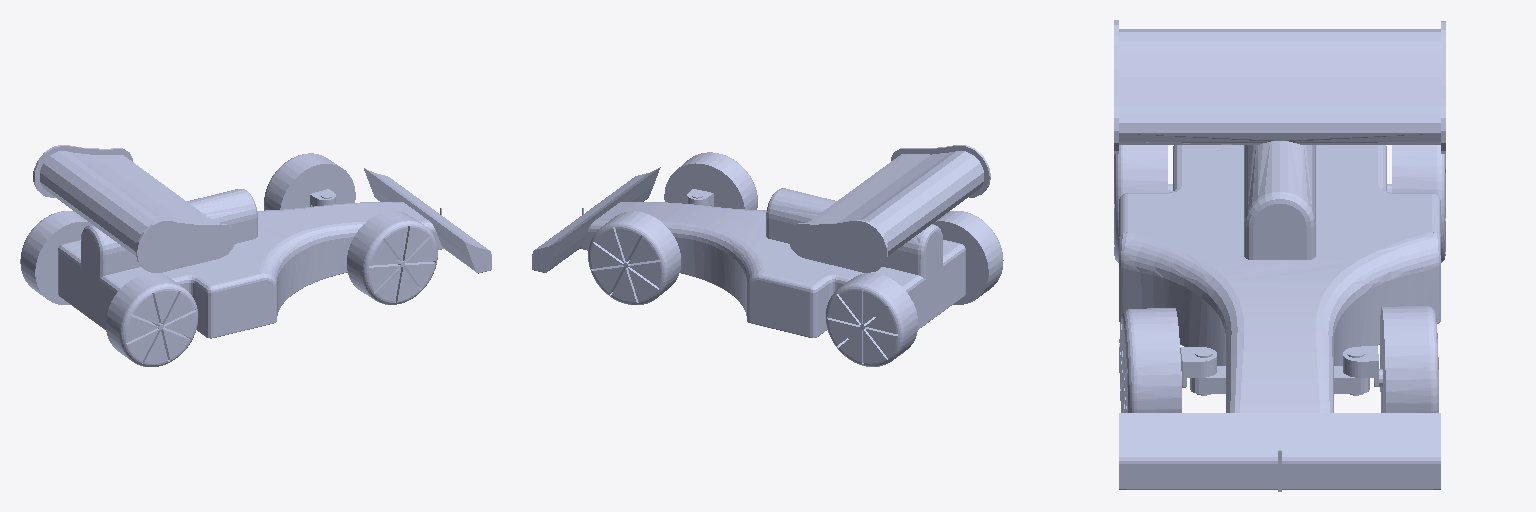
The robot description file, URDF, robot "updated_assembly":
<?xml version="1.0" encoding="utf-8"?>
<!-- This URDF was automatically created by SolidWorks to URDF Exporter! Originally created by [author] ([email redacted]) 
     Commit Version: 1.6.0-4-g7f85cfe  Build Version: 1.6.7995.38578
     For more information, please see http://wiki.ros.org/sw_urdf_exporter -->
<robot
  name="updated_assembly">
  <link
    name="chassis">
    <inertial>
      <origin
        xyz="-0.616773657514888 -4.34853353439648E-08 0.146342231101862"
        rpy="0 0 0" />
      <mass
        value="41.5853551802886" />
      <inertia
        ixx="0.779362029443521"
        ixy="5.13040313927605E-06"
        ixz="0.395543854550346"
        iyy="2.49517805123046"
        iyz="-2.04865621142101E-06"
        izz="2.66085738422244" />
    </inertial>
    <visual>
      <origin
        xyz="0 0 0"
        rpy="0 0 0" />
      <geometry>
        <mesh
          filename="package://updated_assembly/meshes/chassis.STL" />
      </geometry>
      <material
        name="">
        <color
          rgba="0.792156862745098 0.819607843137255 0.933333333333333 1" />
      </material>
    </visual>
    <collision>
      <origin
        xyz="0 0 0"
        rpy="0 0 0" />
      <geometry>
        <mesh
          filename="package://updated_assembly/meshes/chassis.STL" />
      </geometry>
    </collision>
  </link>
  <link
    name="right_stubble">
    <inertial>
      <origin
        xyz="0.000493625868364517 -0.00730515849096751 -0.0219698232437771"
        rpy="0 0 0" />
      <mass
        value="0.0794074667477977" />
      <inertia
        ixx="3.1138971614894E-05"
        ixy="7.32024407649854E-08"
        ixz="-1.75460715547232E-07"
        iyy="3.00605967383084E-05"
        iyz="2.59663931361191E-06"
        izz="2.66046329228299E-05" />
    </inertial>
    <visual>
      <origin
        xyz="0 0 0"
        rpy="0 0 0" />
      <geometry>
        <mesh
          filename="package://updated_assembly/meshes/right_stubble.STL" />
      </geometry>
      <material
        name="">
        <color
          rgba="0.792156862745098 0.819607843137255 0.933333333333333 1" />
      </material>
    </visual>
    <collision>
      <origin
        xyz="0 0 0"
        rpy="0 0 0" />
      <geometry>
        <mesh
          filename="package://updated_assembly/meshes/right_stubble.STL" />
      </geometry>
    </collision>
  </link>
  <joint
    name="right_stubbleJ"
    type="revolute">
    <origin
      xyz="-0.23495 -0.10795 0.14478"
      rpy="0 0 0" />
    <parent
      link="chassis" />
    <child
      link="right_stubble" />
    <axis
      xyz="0 0 -1" />
    <limit
      lower="-0.34907"
      upper="0.34907"
      effort="0"
      velocity="0" />
  </joint>
  <link
    name="front_right_wheel">
    <inertial>
      <origin
        xyz="-6.63358257213531E-15 4.37150315946155E-15 0.0395540914856702"
        rpy="0 0 0" />
      <mass
        value="2.27734930086204" />
      <inertia
        ixx="0.00710492920653124"
        ixy="1.58753565960078E-15"
        ixz="-1.75678699018689E-15"
        iyy="0.00710492920653248"
        iyz="1.21772395875685E-15"
        izz="0.0119904910382331" />
    </inertial>
    <visual>
      <origin
        xyz="0 0 0"
        rpy="0 0 0" />
      <geometry>
        <mesh
          filename="package://updated_assembly/meshes/front_right_wheel.STL" />
      </geometry>
      <material
        name="">
        <color
          rgba="0.792156862745098 0.819607843137255 0.933333333333333 1" />
      </material>
    </visual>
    <collision>
      <origin
        xyz="0 0 0"
        rpy="0 0 0" />
      <geometry>
        <mesh
          filename="package://updated_assembly/meshes/front_right_wheel.STL" />
      </geometry>
    </collision>
  </link>
  <joint
    name="front_right_wheelJ"
    type="continuous">
    <origin
      xyz="0.0077059 -0.11404 -0.04064"
      rpy="1.5708 0 -3.0741" />
    <parent
      link="right_stubble" />
    <child
      link="front_right_wheel" />
    <axis
      xyz="0 0 1" />
  </joint>
  <link
    name="left_stubble">
    <inertial>
      <origin
        xyz="0 0.00732181719766843 -0.0219698232437771"
        rpy="0 0 0" />
      <mass
        value="0.0794074667477977" />
      <inertia
        ixx="3.11439180672446E-05"
        ixy="-5.39983503874616E-21"
        ixz="-5.02925812432241E-21"
        iyy="3.00556502859579E-05"
        iyz="-2.60256069817695E-06"
        izz="2.66046329228299E-05" />
    </inertial>
    <visual>
      <origin
        xyz="0 0 0"
        rpy="0 0 0" />
      <geometry>
        <mesh
          filename="package://updated_assembly/meshes/left_stubble.STL" />
      </geometry>
      <material
        name="">
        <color
          rgba="0.792156862745098 0.819607843137255 0.933333333333333 1" />
      </material>
    </visual>
    <collision>
      <origin
        xyz="0 0 0"
        rpy="0 0 0" />
      <geometry>
        <mesh
          filename="package://updated_assembly/meshes/left_stubble.STL" />
      </geometry>
    </collision>
  </link>
  <joint
    name="left_stubbleJ"
    type="revolute">
    <origin
      xyz="-0.23495 0.10795 0.14478"
      rpy="0 0 0.042278" />
    <parent
      link="chassis" />
    <child
      link="left_stubble" />
    <axis
      xyz="0 0 -1" />
    <limit
      lower="-0.34907"
      upper="0.34907"
      effort="0"
      velocity="0" />
  </joint>
  <link
    name="front_left_wheel">
    <inertial>
      <origin
        xyz="-7.7715611723761E-15 2.67841304690819E-15 0.0395540914856701"
        rpy="0 0 0" />
      <mass
        value="2.27734930086202" />
      <inertia
        ixx="0.00710492920653056"
        ixy="1.08618435030828E-15"
        ixz="-2.06247779271918E-15"
        iyy="0.00710492920653318"
        iyz="7.53683956364923E-16"
        izz="0.0119904910382328" />
    </inertial>
    <visual>
      <origin
        xyz="0 0 0"
        rpy="0 0 0" />
      <geometry>
        <mesh
          filename="package://updated_assembly/meshes/front_left_wheel.STL" />
      </geometry>
      <material
        name="">
        <color
          rgba="0.792156862745098 0.819607843137255 0.933333333333333 1" />
      </material>
    </visual>
    <collision>
      <origin
        xyz="0 0 0"
        rpy="0 0 0" />
      <geometry>
        <mesh
          filename="package://updated_assembly/meshes/front_left_wheel.STL" />
      </geometry>
    </collision>
  </link>
  <joint
    name="front_left_wheelJ"
    type="continuous">
    <origin
      xyz="0 0.1143 -0.04064"
      rpy="1.5708 0 0" />
    <parent
      link="left_stubble" />
    <child
      link="front_left_wheel" />
    <axis
      xyz="0 0 1" />
  </joint>
  <link
    name="rear_right_wheel">
    <inertial>
      <origin
        xyz="4.32986979603811E-15 -6.98052726733067E-15 0.0395540914856703"
        rpy="0 0 0" />
      <mass
        value="2.27734930086199" />
      <inertia
        ixx="0.00710492920653265"
        ixy="1.50573010392001E-15"
        ixz="1.13646128196408E-15"
        iyy="0.00710492920653107"
        iyz="-1.89862675756808E-15"
        izz="0.0119904910382325" />
    </inertial>
    <visual>
      <origin
        xyz="0 0 0"
        rpy="0 0 0" />
      <geometry>
        <mesh
          filename="package://updated_assembly/meshes/rear_right_wheel.STL" />
      </geometry>
      <material
        name="">
        <color
          rgba="0.792156862745098 0.819607843137255 0.933333333333333 1" />
      </material>
    </visual>
    <collision>
      <origin
        xyz="0 0 0"
        rpy="0 0 0" />
      <geometry>
        <mesh
          filename="package://updated_assembly/meshes/rear_right_wheel.STL" />
      </geometry>
    </collision>
  </link>
  <joint
    name="rear_right_wheelJ"
    type="continuous">
    <origin
      xyz="-0.8636 -0.23495 0.1016"
      rpy="1.5708 0 3.1416" />
    <parent
      link="chassis" />
    <child
      link="rear_right_wheel" />
    <axis
      xyz="0 0 1" />
  </joint>
  <link
    name="rear_left_wheel">
    <inertial>
      <origin
        xyz="-1.11022302462516E-16 8.22952817003397E-15 0.0395540914856703"
        rpy="0 0 0" />
      <mass
        value="2.27734930086199" />
      <inertia
        ixx="0.00710492920653356"
        ixy="-3.832285813084E-17"
        ixz="3.23743942117421E-17"
        iyy="0.00710492920653015"
        iyz="2.21267793842341E-15"
        izz="0.0119904910382325" />
    </inertial>
    <visual>
      <origin
        xyz="0 0 0"
        rpy="0 0 0" />
      <geometry>
        <mesh
          filename="package://updated_assembly/meshes/rear_left_wheel.STL" />
      </geometry>
      <material
        name="">
        <color
          rgba="0.792156862745098 0.819607843137255 0.933333333333333 1" />
      </material>
    </visual>
    <collision>
      <origin
        xyz="0 0 0"
        rpy="0 0 0" />
      <geometry>
        <mesh
          filename="package://updated_assembly/meshes/rear_left_wheel.STL" />
      </geometry>
    </collision>
  </link>
  <joint
    name="rear_left_wheelJ"
    type="continuous">
    <origin
      xyz="-0.8636 0.23495 0.1016"
      rpy="1.5708 0 0" />
    <parent
      link="chassis" />
    <child
      link="rear_left_wheel" />
    <axis
      xyz="0 0 -1" />
  </joint>   
  <link
  	name="dummy_link">
  </link>
  <joint
  	name="dummy_joint"
  	type="fixed">
  	<parent 
  		link="dummy_link"/>
  	<child
  		link="chassis"/>
  </joint>
<transmission name="trans_right_stubble">
    <type>transmission_interface/SimpleTransmission</type>
    <joint name="right_stubbleJ">
      <hardwareInterface>hardware_interface/EffortJointInterface</hardwareInterface>
    </joint>
    <actuator name="right_stubbleJ_motor">
      <mechanicalReduction>1</mechanicalReduction>
      <hardwareInterface>hardware_interface/EffortJointInterface</hardwareInterface>
    </actuator>
  </transmission>
  <transmission name="trans_left_stubble">
    <type>transmission_interface/SimpleTransmission</type>
    <joint name="left_stubbleJ">
      <hardwareInterface>hardware_interface/EffortJointInterface</hardwareInterface>
    </joint>
    <actuator name="left_stubbleJ_motor">
      <mechanicalReduction>1</mechanicalReduction>
      <hardwareInterface>hardware_interface/EffortJointInterface</hardwareInterface>
    </actuator>
  </transmission>
  <transmission name="trans_front_left_wheel">
    <type>transmission_interface/SimpleTransmission</type>
    <joint name="front_left_wheelJ">
      <hardwareInterface>hardware_interface/EffortJointInterface</hardwareInterface>
    </joint>
    <actuator name="front_left_wheel_motor">
      <mechanicalReduction>1</mechanicalReduction>
      <hardwareInterface>hardware_interface/EffortJointInterface</hardwareInterface>
    </actuator>
  </transmission>
  <transmission name="trans_front_right_wheel">
    <type>transmission_interface/SimpleTransmission</type>
    <joint name="front_right_wheelJ">
      <hardwareInterface>hardware_interface/EffortJointInterface</hardwareInterface>
    </joint>
    <actuator name="front_right_wheel_motor">
      <mechanicalReduction>1</mechanicalReduction>
      <hardwareInterface>hardware_interface/EffortJointInterface</hardwareInterface>
    </actuator>
  </transmission>
  <transmission name="trans_rear_right_wheel">
    <type>transmission_interface/SimpleTransmission</type>
    <joint name="rear_right_wheelJ">
      <hardwareInterface>hardware_interface/VelocityJointInterface</hardwareInterface>
    </joint>
    <actuator name="rear_right_wheel_motor">
      <mechanicalReduction>1</mechanicalReduction>
      <hardwareInterface>hardware_interface/VelocityJointInterface</hardwareInterface>
    </actuator>
  </transmission>
  <transmission name="trans_rear_left_wheel">
    <type>transmission_interface/SimpleTransmission</type>
    <joint name="rear_left_wheelJ">
      <hardwareInterface>hardware_interface/VelocityJointInterface</hardwareInterface>
    </joint>
    <actuator name="rear_left_wheel_motor">
      <mechanicalReduction>1</mechanicalReduction>
      <hardwareInterface>hardware_interface/VelocityJointInterface</hardwareInterface>
    </actuator>
  </transmission>
</robot>

--- Render facts (derived) ---
Views: 3 orthographic renders of the robot side by side, from view 1: azimuth 30°, elevation 25°; view 2: azimuth 150°, elevation 25°; view 3: azimuth 270°, elevation 25°.
Robot: updated_assembly — 8 links, 7 joints (2 revolute, 4 continuous, 1 fixed); root link dummy_link; default pose: every joint at zero.
Visible links, largest first — view 1: chassis, rear_right_wheel, front_right_wheel, front_left_wheel, rear_left_wheel; view 2: chassis, front_left_wheel, rear_left_wheel, front_right_wheel, rear_right_wheel; view 3: chassis, front_right_wheel, front_left_wheel, rear_left_wheel, rear_right_wheel, left_stubble, right_stubble.
Link boxes in pixels (box(x1,y1,x2,y2)): chassis: box(33, 145, 491, 338); rear_right_wheel: box(106, 273, 197, 366); front_right_wheel: box(347, 211, 437, 304); front_left_wheel: box(264, 153, 355, 210); rear_left_wheel: box(20, 211, 90, 304); chassis: box(532, 145, 990, 337); front_left_wheel: box(588, 211, 680, 304); rear_left_wheel: box(826, 273, 917, 366); front_right_wheel: box(664, 152, 757, 209); rear_right_wheel: box(933, 211, 1003, 304); chassis: box(1114, 20, 1445, 491); front_right_wheel: box(1119, 308, 1185, 412); front_left_wheel: box(1374, 306, 1438, 412); rear_left_wheel: box(1387, 145, 1445, 262); rear_right_wheel: box(1114, 145, 1172, 262); left_stubble: box(1343, 346, 1378, 395); right_stubble: box(1180, 347, 1216, 395).
Size in the robot's own frame: 0.9677 by 0.4699 by 0.3649 metres.
Meshes: 7 distinct files referenced, 7 mesh visuals loaded (7 binary STL).